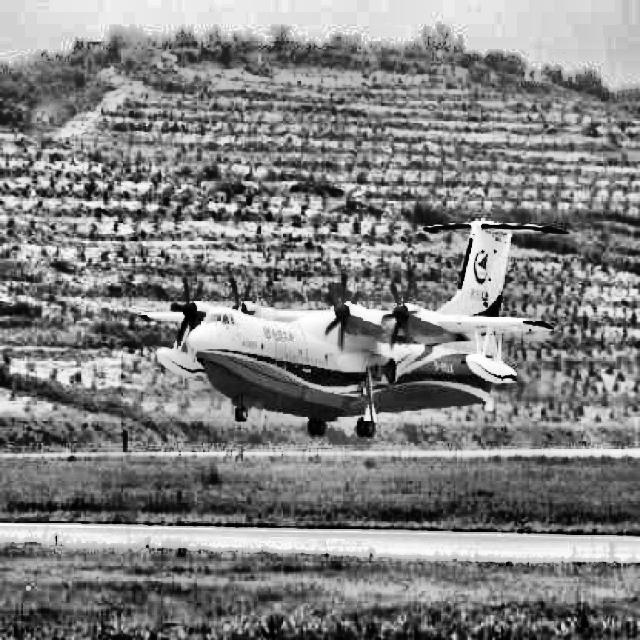AG600: (138, 218, 568, 438)
